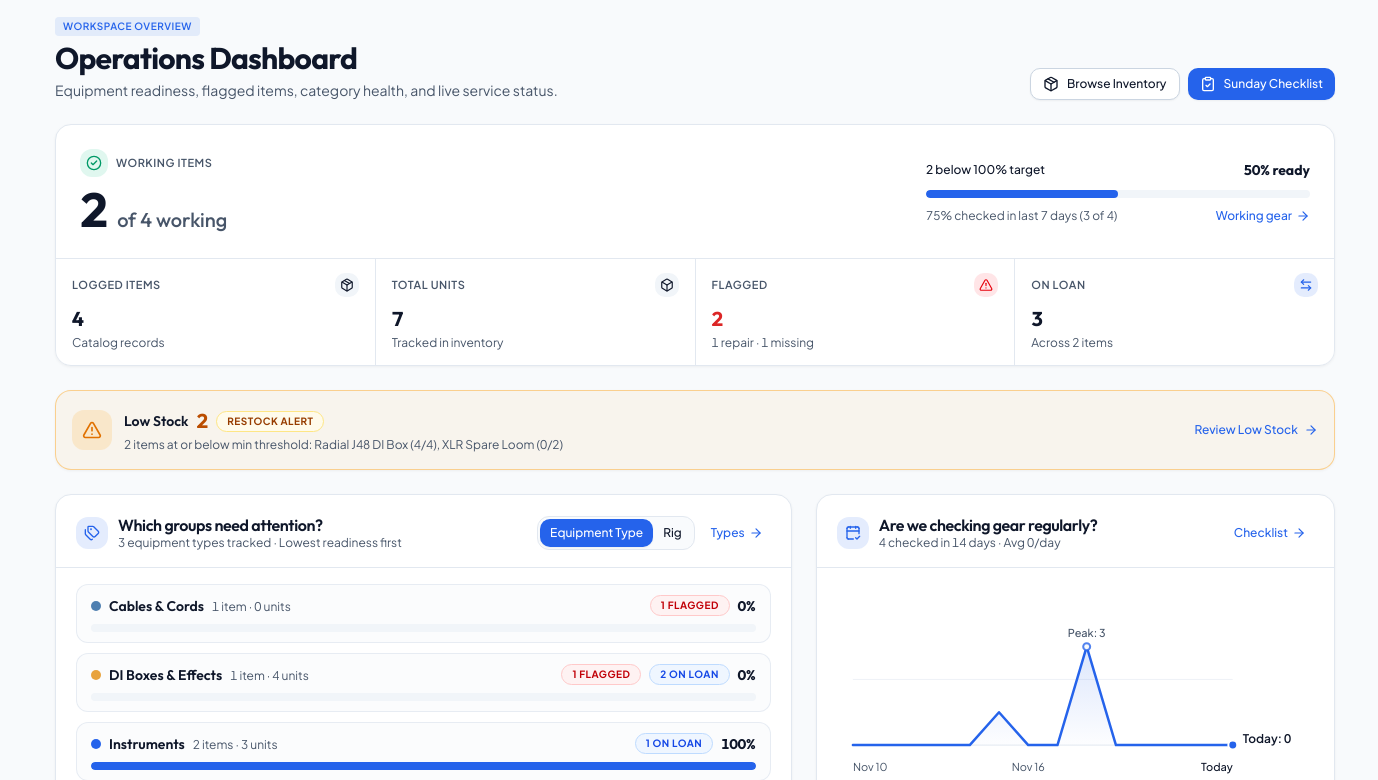
Scenario: DashboardPage › routes Guest clicks on KPIs, Low Stock callout, Needs Attention items, Equipment Type cards, and Rig Category cards to filtered /inventory destinations
Later steps or results of the test are not shown.
Click the link with test id "kpi-logged-items".
click(116, 284)  # box top-left (56, 259), bottom-right (375, 365)
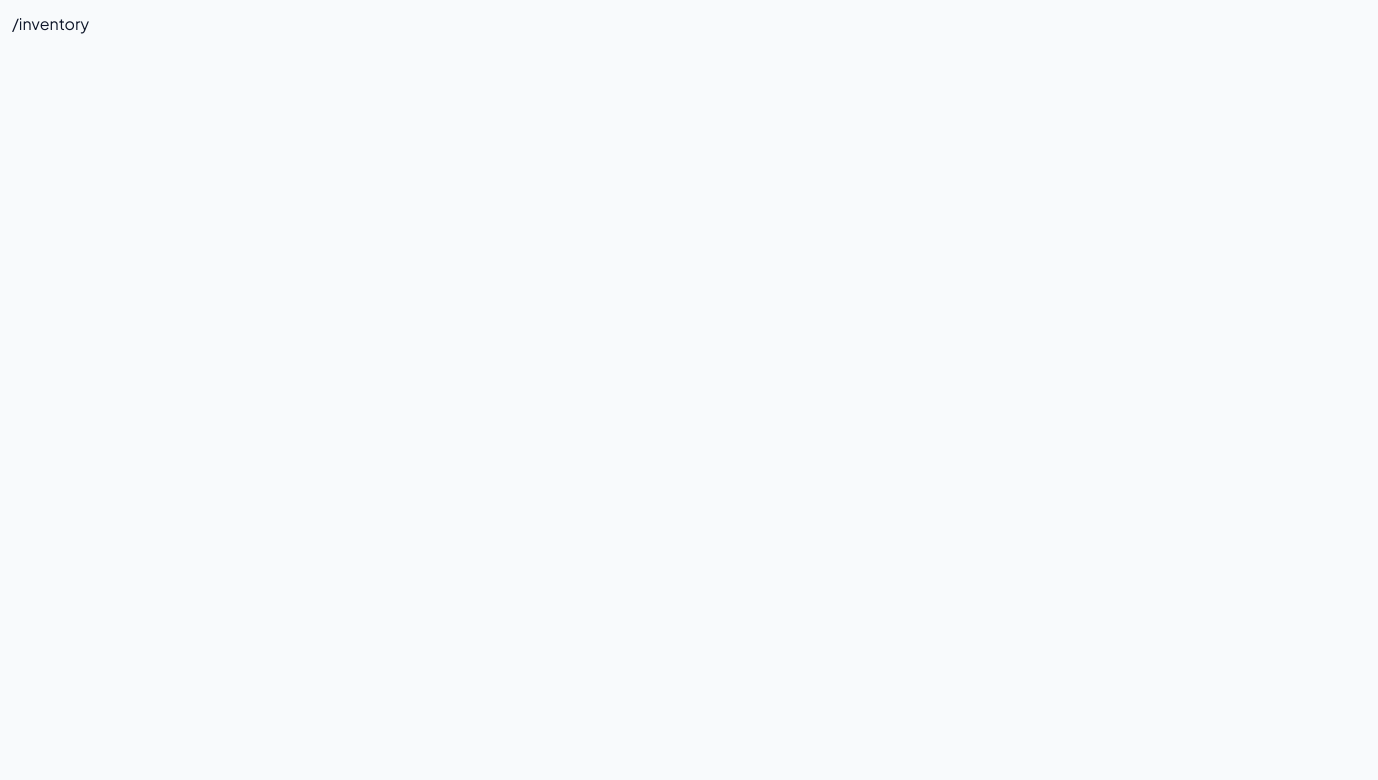
expect the text with test id "route-echo" reads "/inventory": met, box top-left (12, 13), bottom-right (89, 34)
